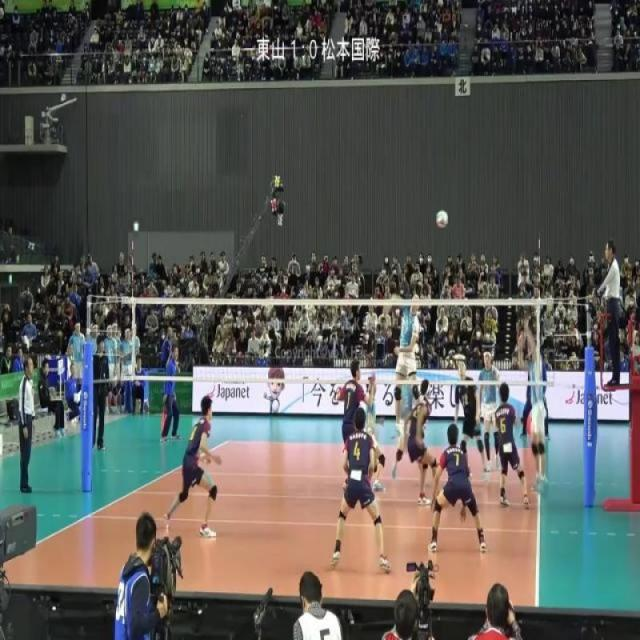volleyball: (435, 209, 450, 229)
